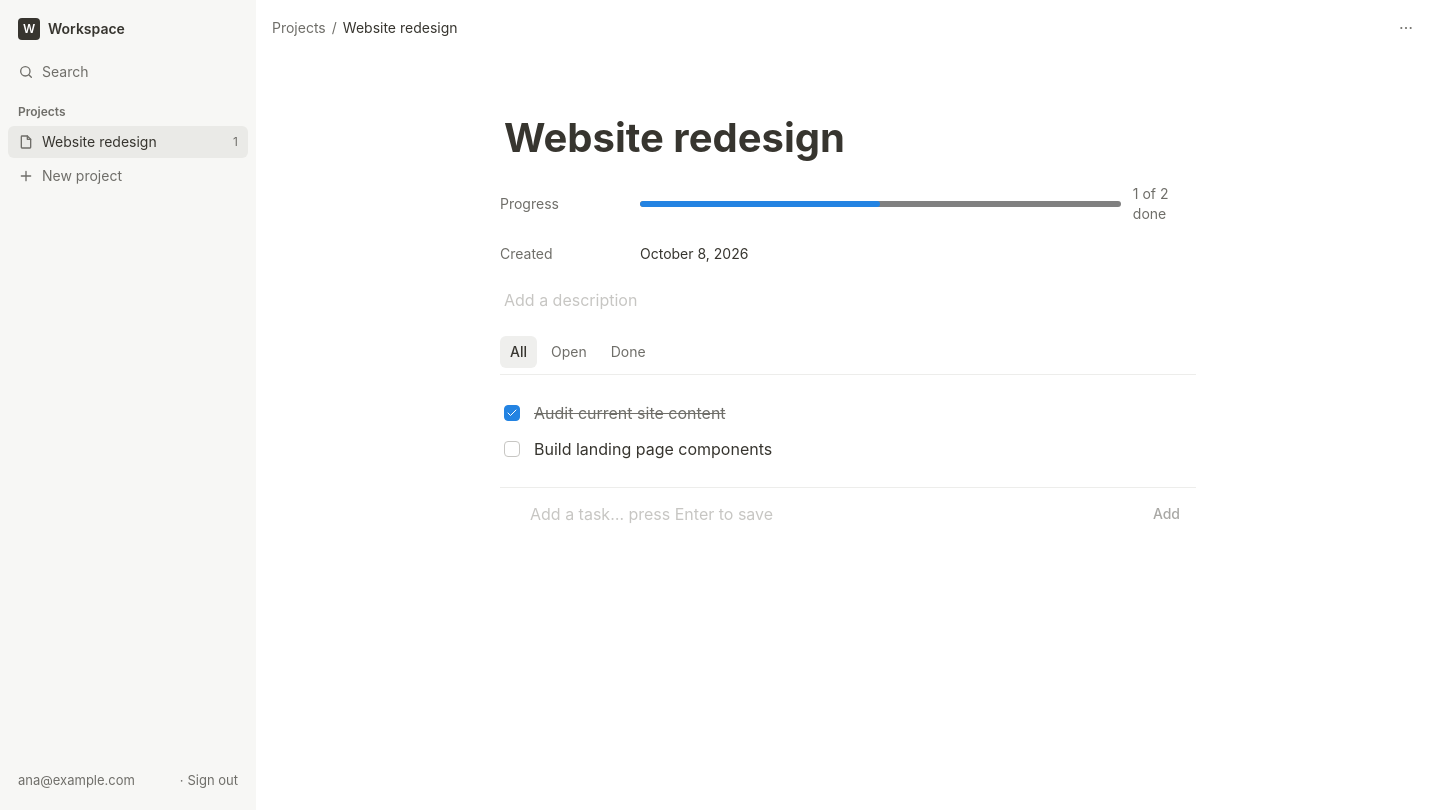
project detail page › creates a task by pressing Enter and keeps focus on the input
The image size is (1440, 810).
Type "Set up redirects from old URLs" into the field with placeholder "Add a task… press Enter to save" at (830, 514), box [530,496,1131,532]
Then press Enter
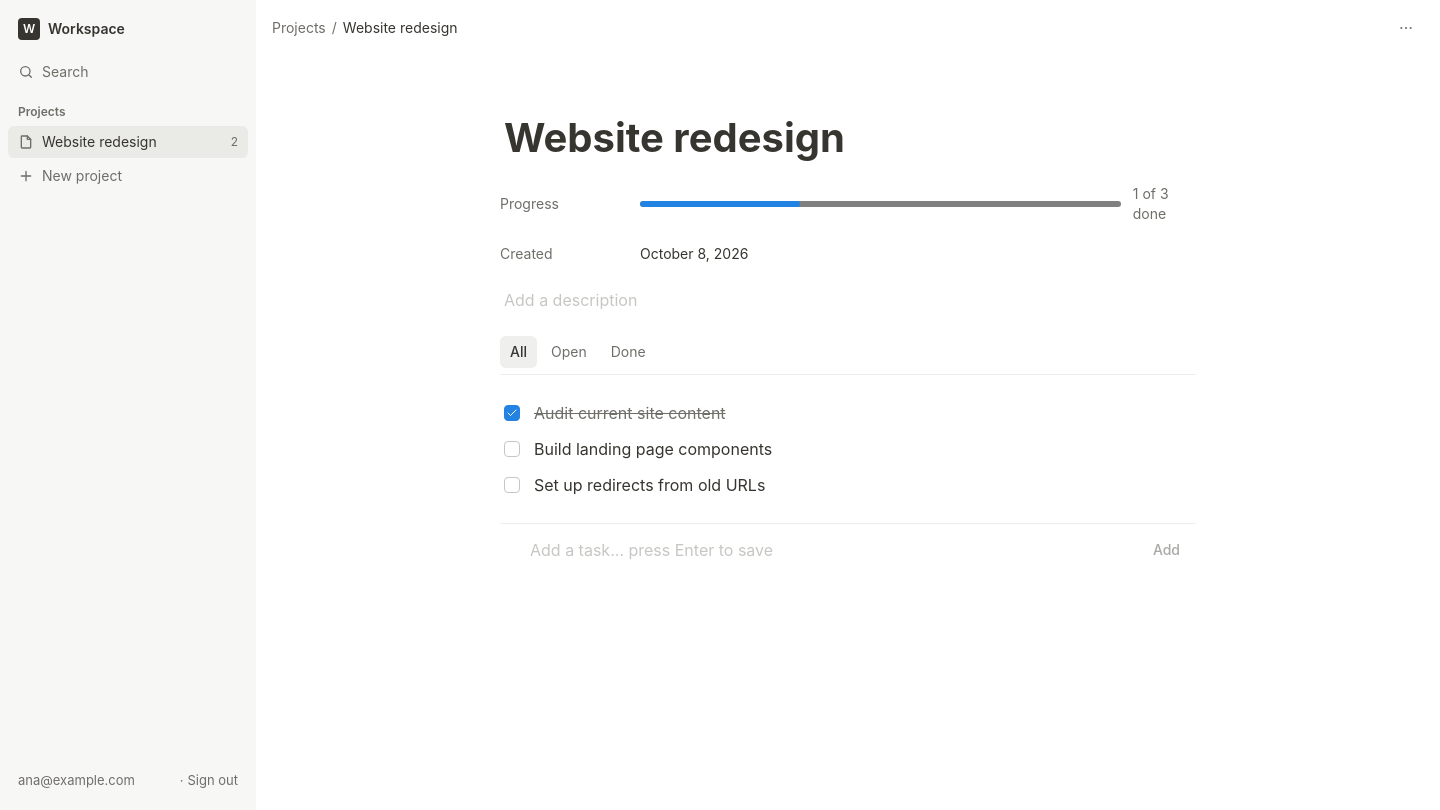
Expected: the field with placeholder "Add a task… press Enter to save" is empty, [530,532,1131,568]
Expected: the button "Set up redirects from old URLs" is shown, [530,471,1150,499]
